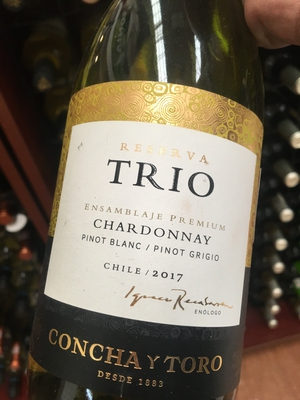trio chardonnay: (30, 20, 273, 400)
